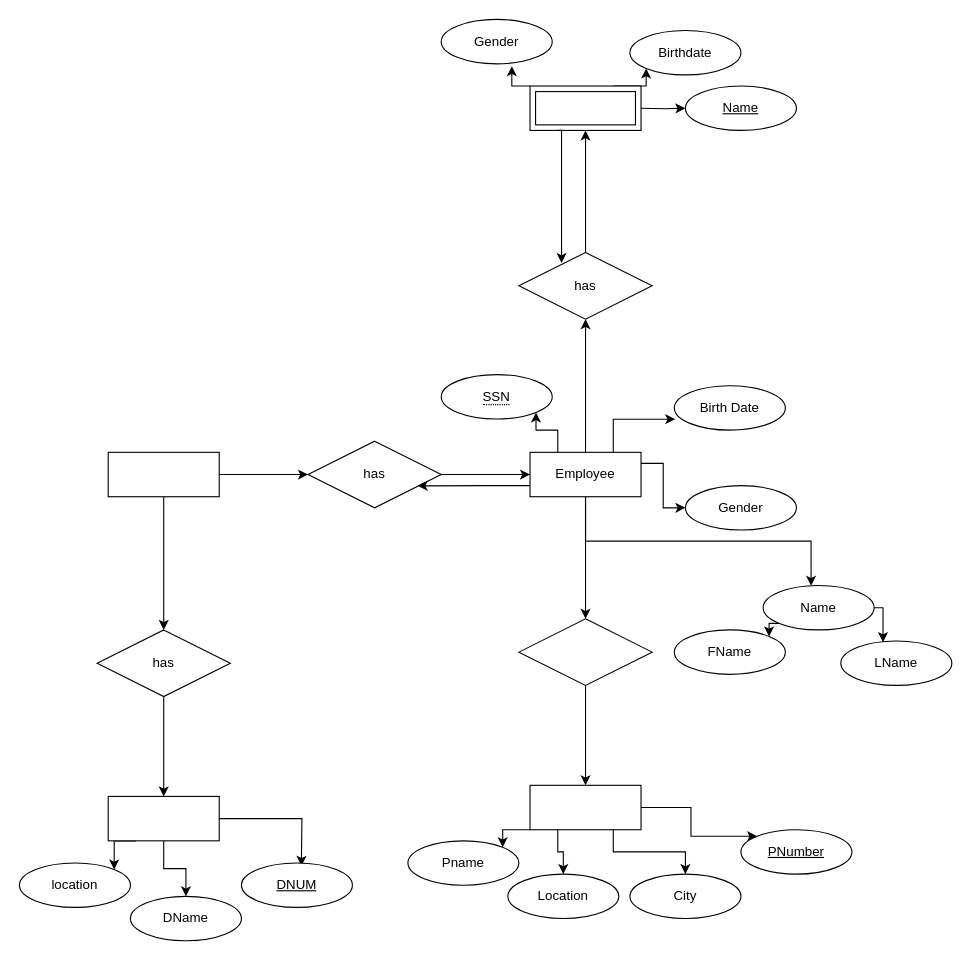
Some shapes in this 971 by 960 pixel diagram are drawn without their labels. The centre of each missing label's shape, as x and y in pixels:
"Company" belongs at (x=163, y=474).
"Department" belongs at (x=163, y=818).
"dependent" belongs at (x=585, y=107).
"Project" belongs at (x=585, y=807).
"Work" belongs at (x=585, y=651).
